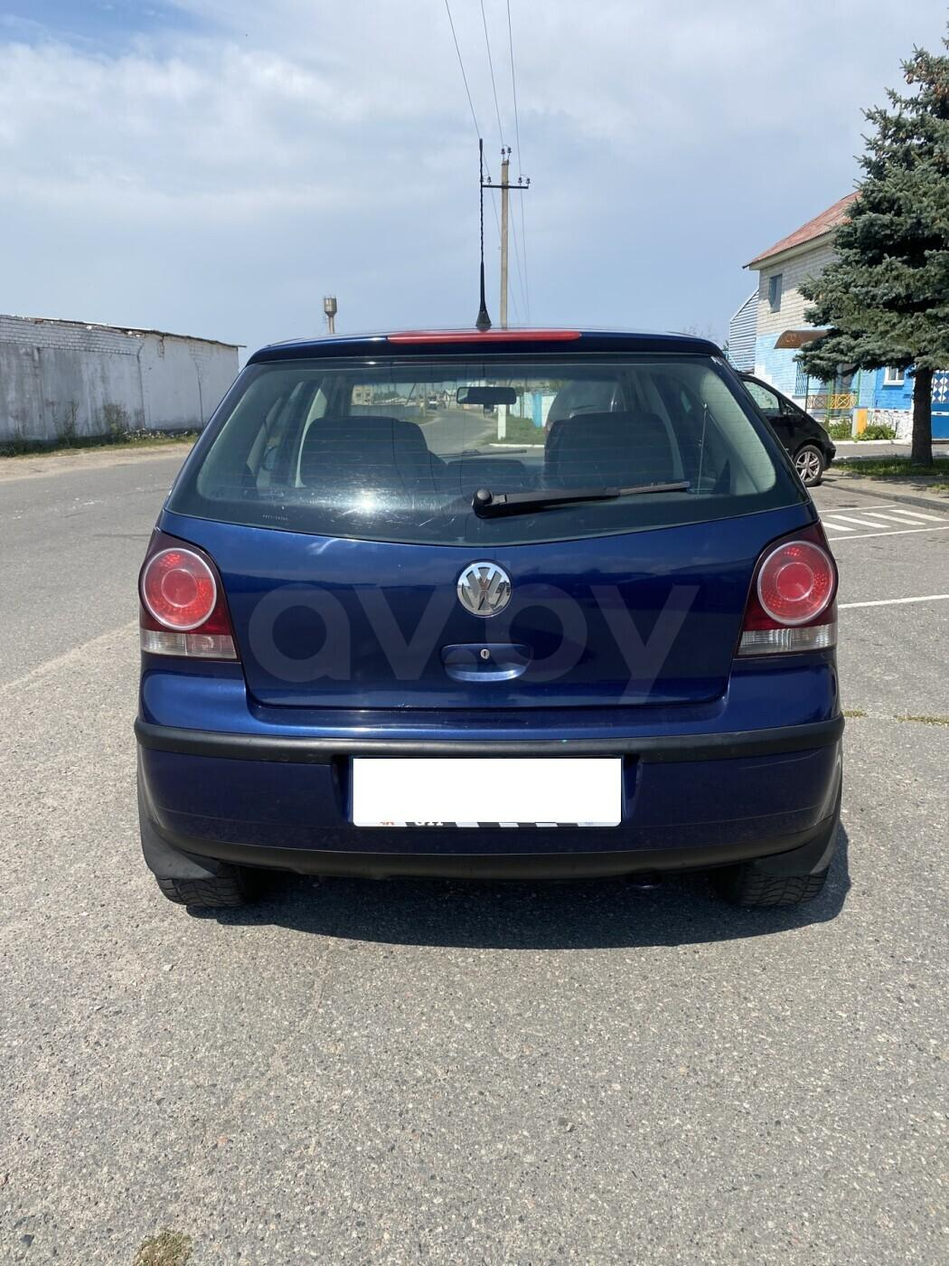Polo_2005-2009: (113, 321, 878, 949)
